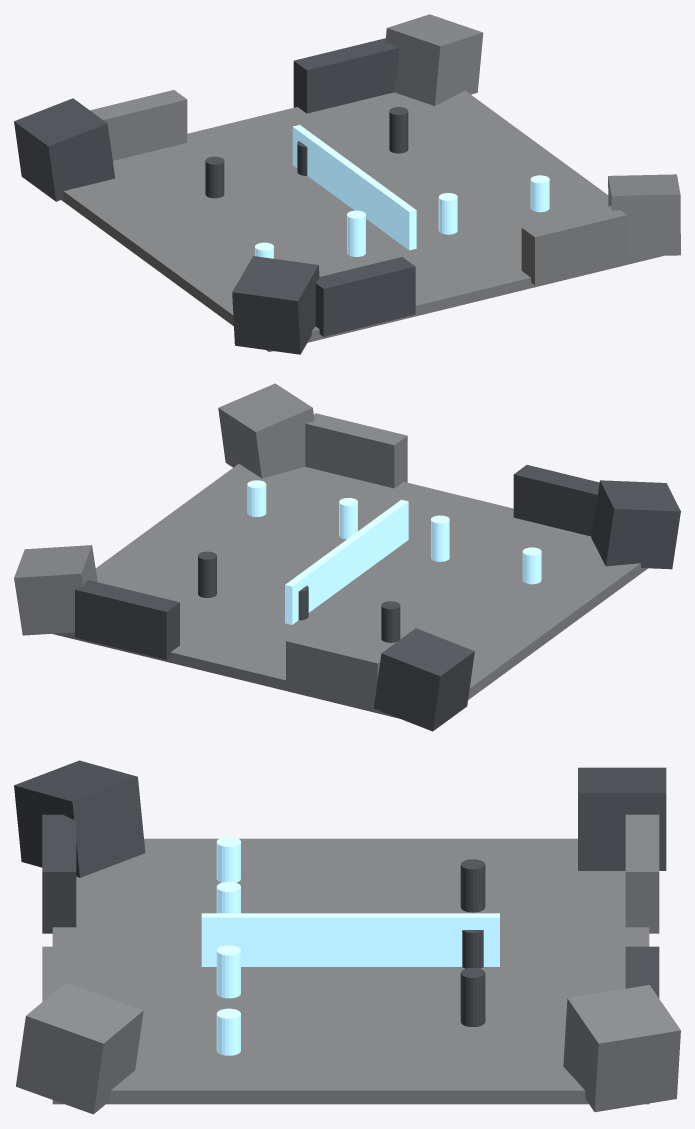
3 renders of one model, top to bottom at view 1: azimuth 30°, elevation 25°; view 2: azimuth 150°, elevation 25°; view 3: azimuth 270°, elevation 25°, orthographic. The views are drawn at different scales.
Parts seen in each view (by area): view 1: DistrictFloor, BoundaryMass0, BoundaryMass2, BoundaryMass1, BoundaryNorthEast, BoundaryNorthWest, BoundarySouthEast, ThermalVein, BoundaryMass3, BoundarySouthWest, ThermalVent5, ThermalVent2 (+3 smaller); view 2: DistrictFloor, BoundaryMass0, BoundaryMass2, BoundaryMass3, BoundarySouthEast, BoundaryMass1, BoundaryNorthEast, BoundarySouthWest, ThermalVein, BoundaryNorthWest, ThermalVent2, ThermalVent5 (+4 smaller); view 3: DistrictFloor, ThermalVein, BoundaryMass1, BoundaryMass3, BoundaryMass2, BoundaryMass0, BoundarySouthWest, BoundaryNorthWest, BoundaryNorthEast, BoundarySouthEast, ThermalVent5, ThermalVent1 (+5 smaller).
Part boxes in pixels (box(x1,y1,x2,y2)): DistrictFloor: box(61, 90, 663, 352); BoundaryMass0: box(14, 98, 115, 201); BoundaryMass2: box(232, 256, 319, 354); BoundaryMass1: box(385, 14, 483, 105); BoundaryNorthEast: box(521, 206, 626, 285); BoundaryNorthWest: box(315, 257, 415, 336); BoundarySouthEast: box(293, 38, 398, 113); ThermalVein: box(292, 125, 416, 250); BoundaryMass3: box(608, 174, 680, 256); BoundarySouthWest: box(90, 90, 187, 160); ThermalVent5: box(389, 107, 408, 153); ThermalVent2: box(347, 210, 365, 256); DistrictFloor: box(52, 464, 647, 718); BoundaryMass0: box(373, 628, 474, 731); BoundaryMass2: box(591, 480, 680, 569); BoundaryMass3: box(218, 383, 314, 478); BoundarySouthEast: box(75, 580, 179, 659); BoundaryMass1: box(14, 545, 97, 635); BoundaryNorthEast: box(305, 413, 407, 488); BoundarySouthWest: box(286, 631, 382, 711); ThermalVein: box(285, 499, 408, 624); BoundaryNorthWest: box(513, 465, 599, 536); ThermalVent2: box(431, 515, 449, 561); ThermalVent5: box(198, 551, 216, 597); DistrictFloor: box(52, 838, 649, 1104); ThermalVein: box(201, 913, 499, 966); BoundaryMass1: box(563, 985, 680, 1112); BoundaryMass3: box(16, 983, 143, 1114); BoundaryMass2: box(14, 760, 145, 877); BoundaryMass0: box(578, 767, 666, 870); BoundarySouthWest: box(625, 814, 659, 933); BoundaryNorthWest: box(42, 814, 76, 933); BoundaryNorthEast: box(42, 946, 76, 1001); BoundarySouthEast: box(625, 946, 659, 998); ThermalVent5: box(460, 967, 485, 1026); ThermalVent1: box(460, 859, 485, 912).
Bounding box in the file's own units: 98.87 × 15.85 × 98.37.
